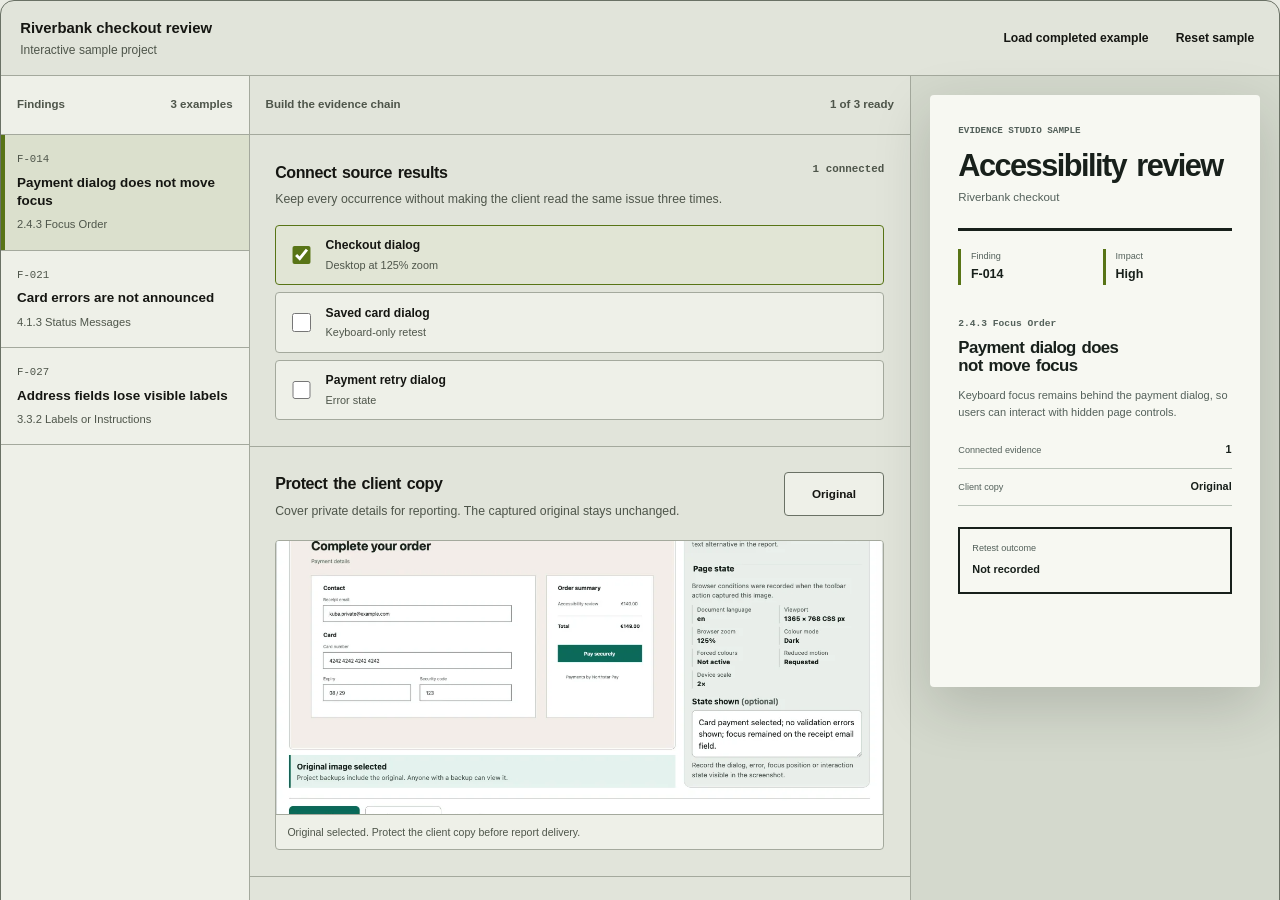
Scenario: PremiumDemo › updates the report when a different finding is selected
What coordinates should you click on to do the following:
click the radio button labelled "F-021 Card errors are not announced 4.1.3 Status Messages"
I would click on:
 (125, 299)
Its box is [1,251,249,348].
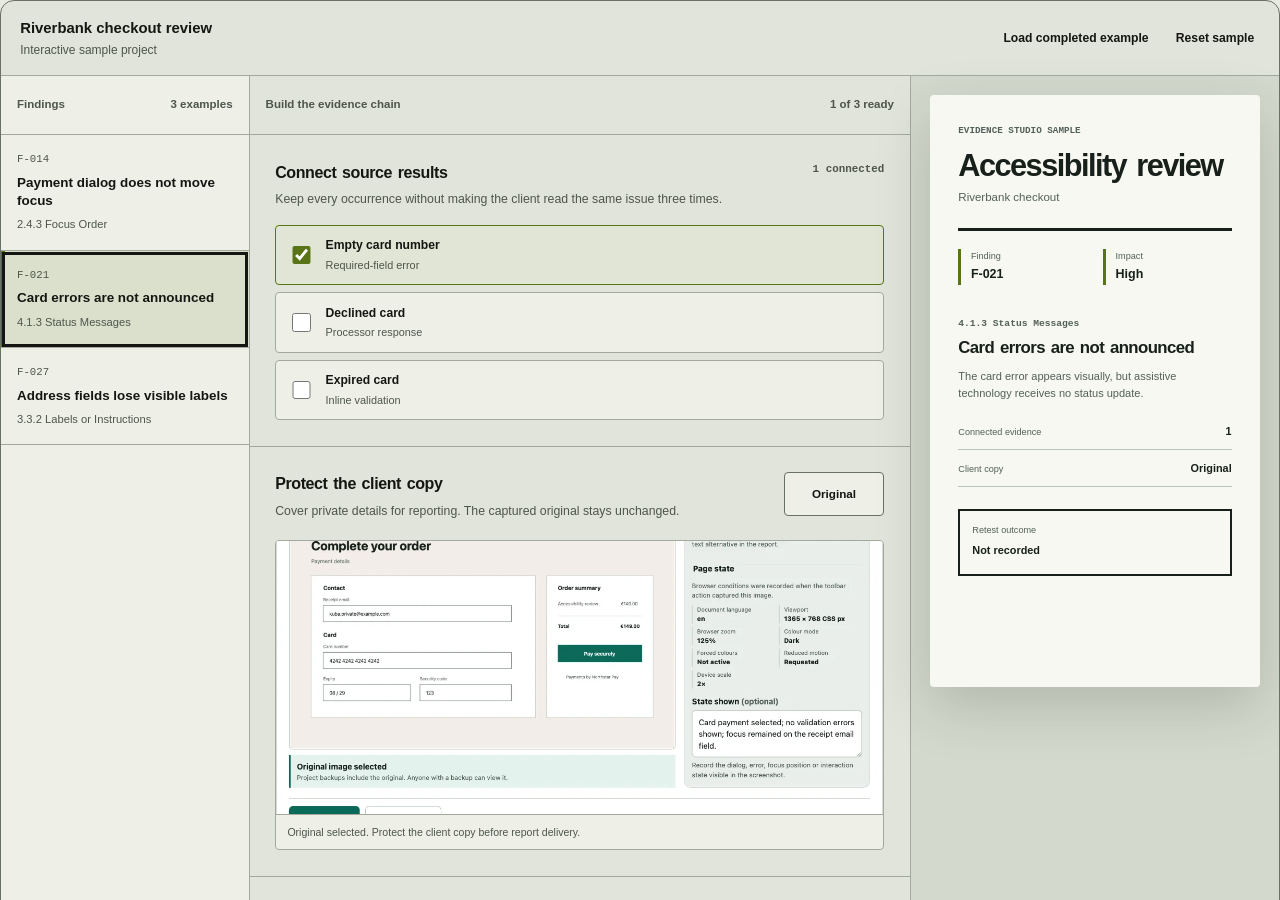
Check: the text "F-021" below "2.4.3 Focus Order" is shown, box [17,269,49,281]
Check: the text "The card error appears visually, but assistive technology receives no status update." is shown, box [958,370,1176,399]
